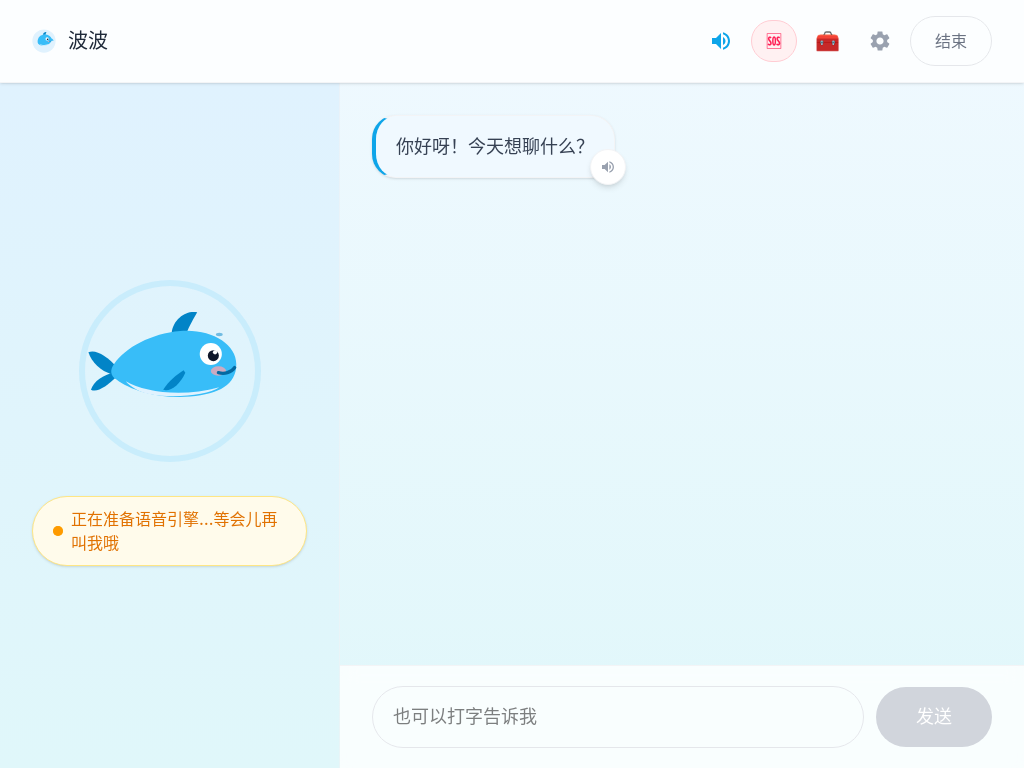
Test: ChatRoom › 输入文字并发送（SSE 流式回复）
This screenshot has width=1024, height=768.
Type "我今天很开心" into the field with placeholder "也可以打字告诉我". click: {"x": 618, "y": 717}
box: x1=372 y1=686 x2=864 y2=748
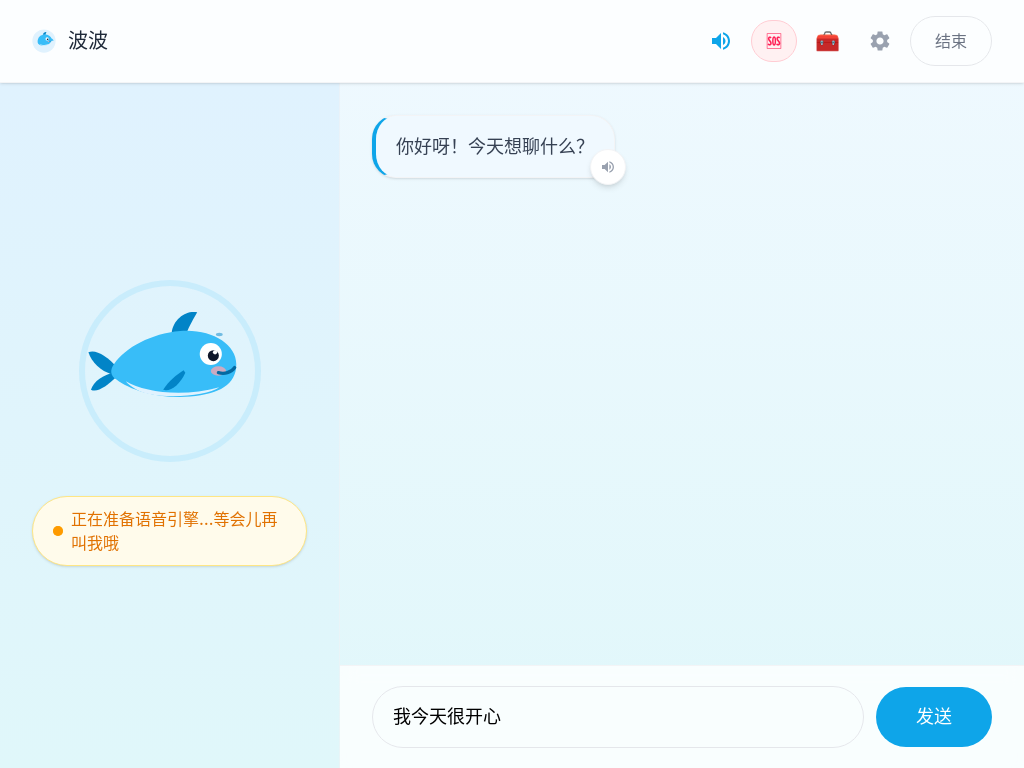
Click the button "发送". click: {"x": 934, "y": 717}
box: x1=876 y1=687 x2=992 y2=747
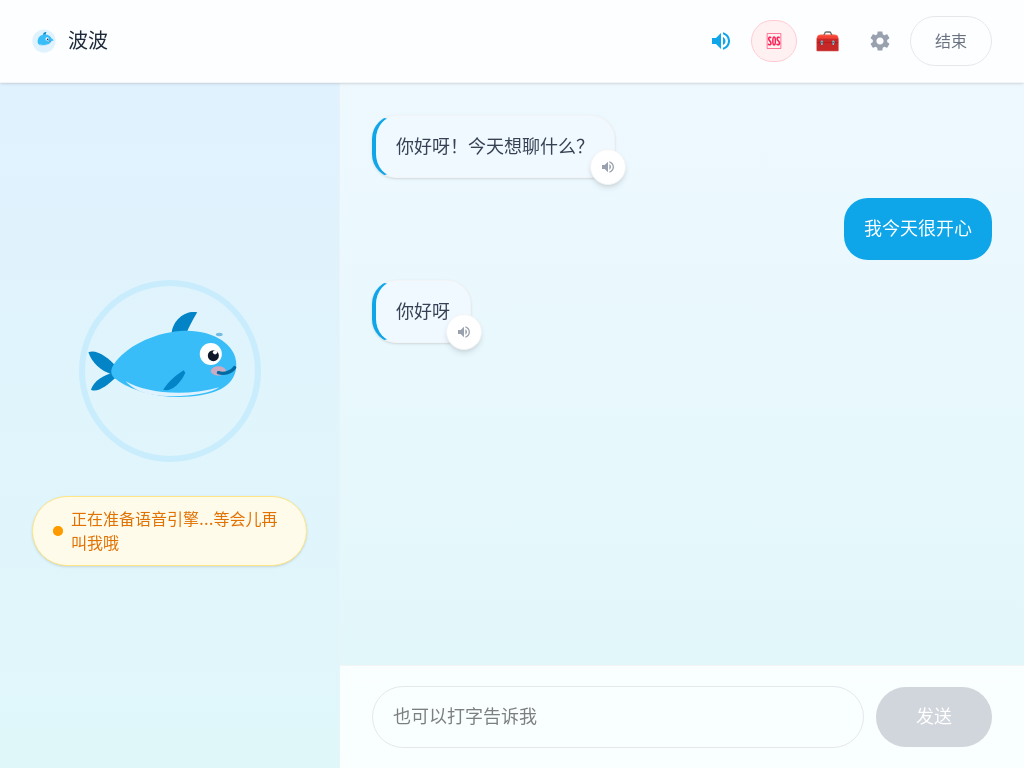
Now the text "你好呀" is shown, box x1=372 y1=280 x2=471 y2=343
